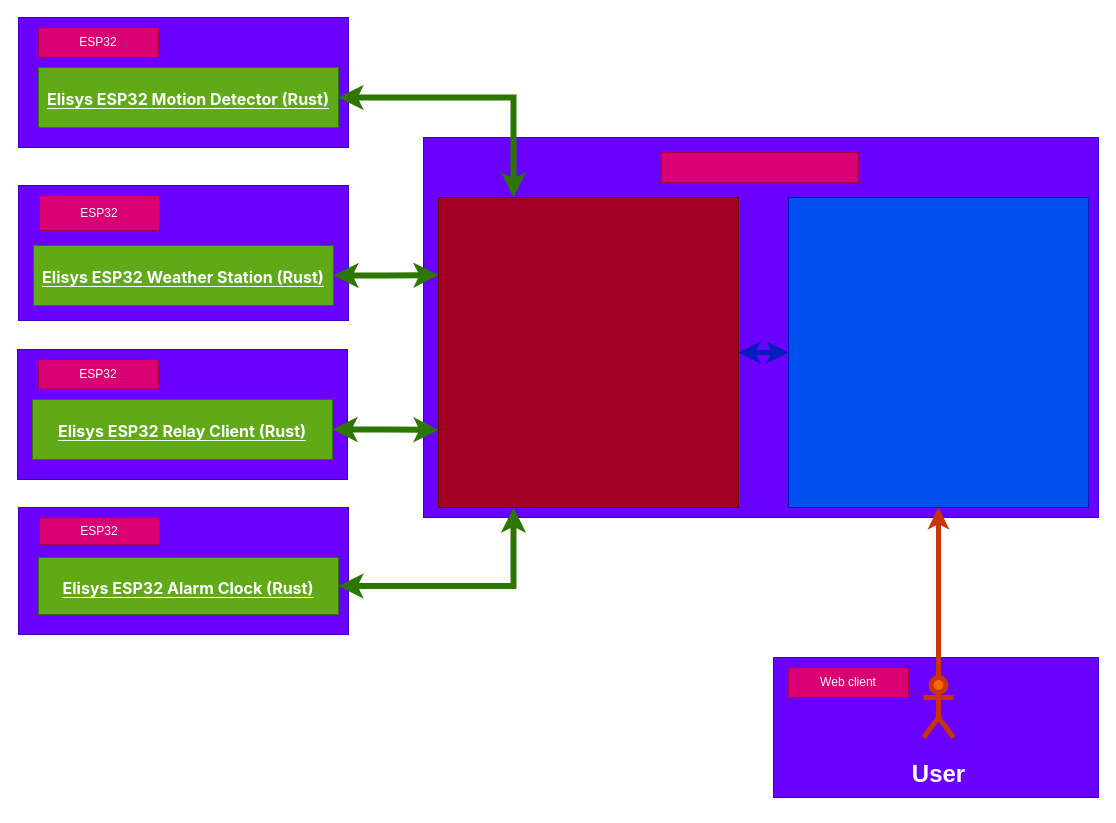
Image size: 1116x823. Some labels were removed from this diagram. Each missing label, with the centre of its shape:
"Elisys Home Automation Client (TypeScript)" goes at point 938,352.
"Elisys Home Automation Server (Java)" goes at point 588,352.
"Raspberry Pi / x86 Server" goes at point 759,167.
